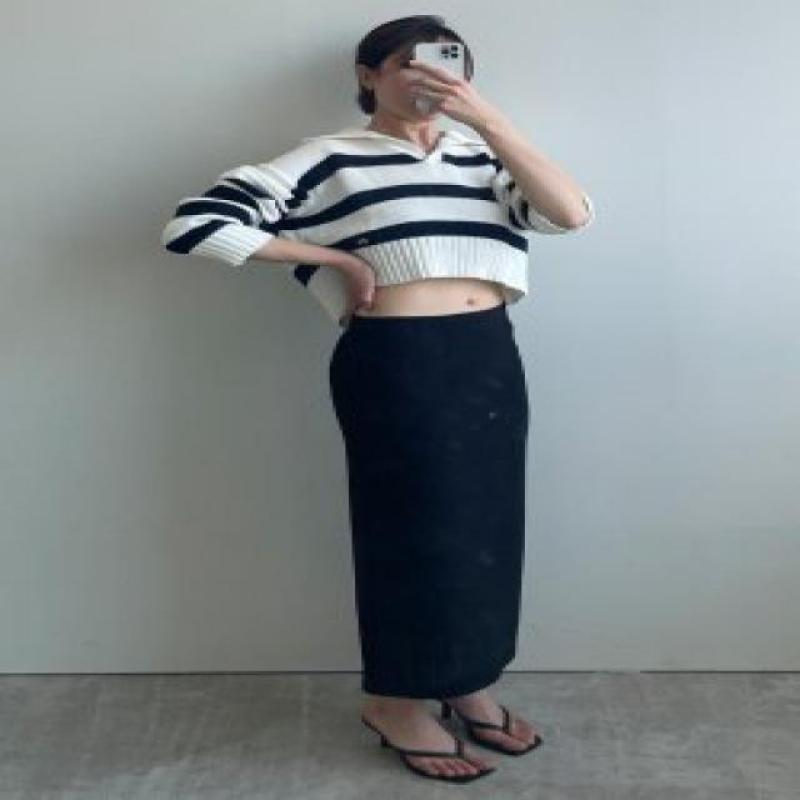skirt: (328, 301, 532, 701)
sweater: (159, 125, 595, 325)
